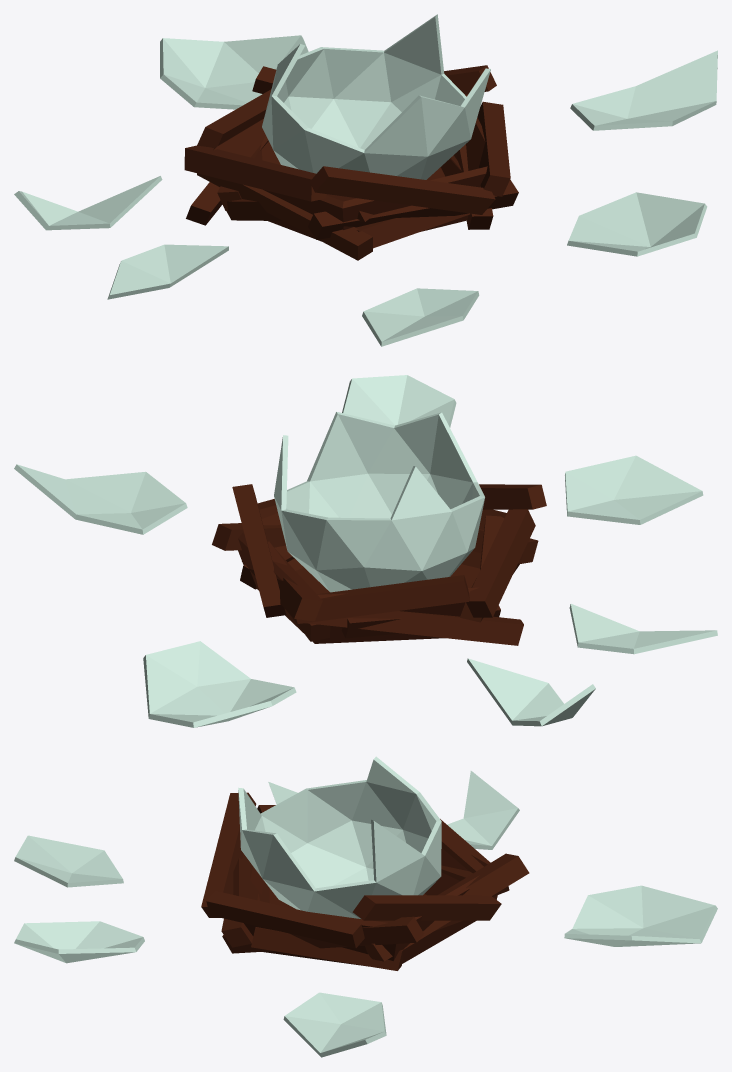
File: EggNestHatched_v1.fbx
The picture shows the model from 3 angles, top to bottom: view 1: azimuth 30°, elevation 25°; view 2: azimuth 150°, elevation 25°; view 3: azimuth 270°, elevation 25°; orthographic projection. The views are drawn at different scales.
Visible parts, largest first — view 1: EggBase, Part6, Part5, Part4, Fiber.008, Nest, Part2, Fiber.011, Part3, Part1, Fiber.010, Fiber.002 (+7 smaller); view 2: EggBase, Part6, Part2, Part5, Part4, Fiber.014, Part1, Fiber.013, Nest, Fiber.011, Part3, Fiber.005 (+6 smaller); view 3: EggBase, Part6, Part5, Fiber.002, Nest, Part4, Part2, Fiber.005, Part1, Fiber.004, Fiber.008, Fiber.003 (+3 smaller).
Part boxes in pixels (x1=…): EggBase: x1=262, y1=14, x2=490, y2=179; Part6: x1=160, y1=35, x2=308, y2=109; Part5: x1=570, y1=50, x2=717, y2=130; Part4: x1=567, y1=192, x2=707, y2=256; Fiber.008: x1=310, y1=166, x2=495, y2=214; Nest: x1=213, y1=97, x2=487, y2=241; Part2: x1=362, y1=288, x2=479, y2=346; Fiber.011: x1=184, y1=145, x2=326, y2=201; Part3: x1=107, y1=244, x2=228, y2=299; Part1: x1=14, y1=176, x2=162, y2=230; Fiber.010: x1=197, y1=173, x2=372, y2=260; Fiber.002: x1=477, y1=101, x2=510, y2=196; EggBase: x1=274, y1=411, x2=484, y2=592; Part6: x1=143, y1=641, x2=296, y2=727; Part2: x1=565, y1=455, x2=703, y2=524; Part5: x1=14, y1=464, x2=187, y2=534; Part4: x1=342, y1=375, x2=456, y2=427; Fiber.014: x1=296, y1=575, x2=469, y2=623; Part1: x1=467, y1=658, x2=595, y2=726; Fiber.013: x1=305, y1=611, x2=523, y2=645; Nest: x1=238, y1=509, x2=506, y2=643; Fiber.011: x1=466, y1=509, x2=535, y2=617; Part3: x1=569, y1=604, x2=717, y2=654; Fiber.005: x1=232, y1=484, x2=286, y2=617; EggBase: x1=238, y1=756, x2=441, y2=918; Part6: x1=564, y1=885, x2=717, y2=946; Part5: x1=283, y1=992, x2=386, y2=1057; Fiber.002: x1=206, y1=891, x2=364, y2=948; Nest: x1=233, y1=848, x2=487, y2=966; Part4: x1=14, y1=921, x2=144, y2=963; Part2: x1=14, y1=835, x2=123, y2=887; Fiber.005: x1=352, y1=895, x2=501, y2=920; Part1: x1=447, y1=771, x2=519, y2=849; Fiber.004: x1=365, y1=853, x2=529, y2=961; Fiber.008: x1=201, y1=792, x2=256, y2=917; Fiber.003: x1=251, y1=927, x2=403, y2=970.
Bounding box in the file's own units: 712 × 184 × 701.
